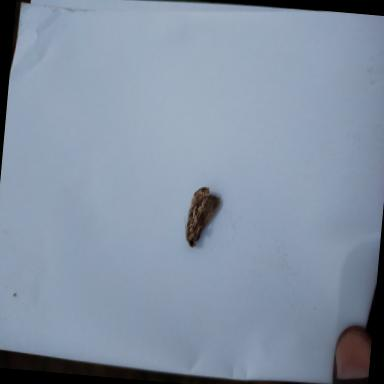pbw: (182, 186, 222, 250)
